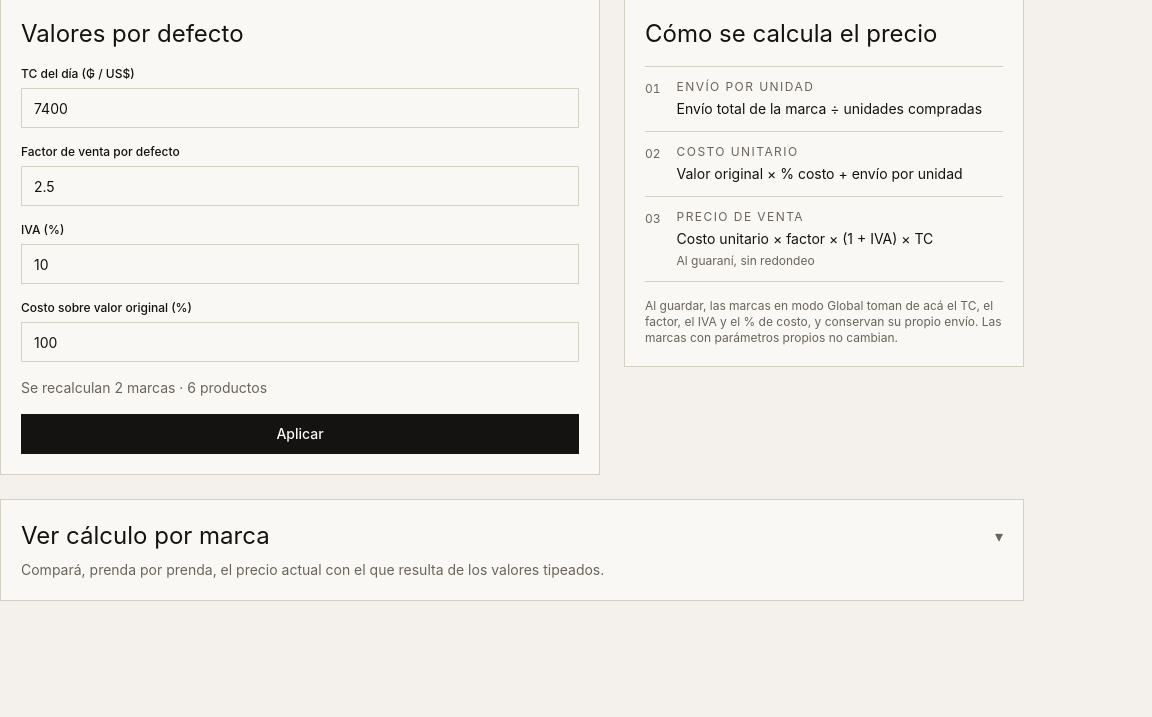
Test: SettingsForm › Ver cálculo por marca › switches the lot with the select
Click the button "Ver cálculo por marca ▾".
click(145, 536)  # box [21, 520, 1003, 552]
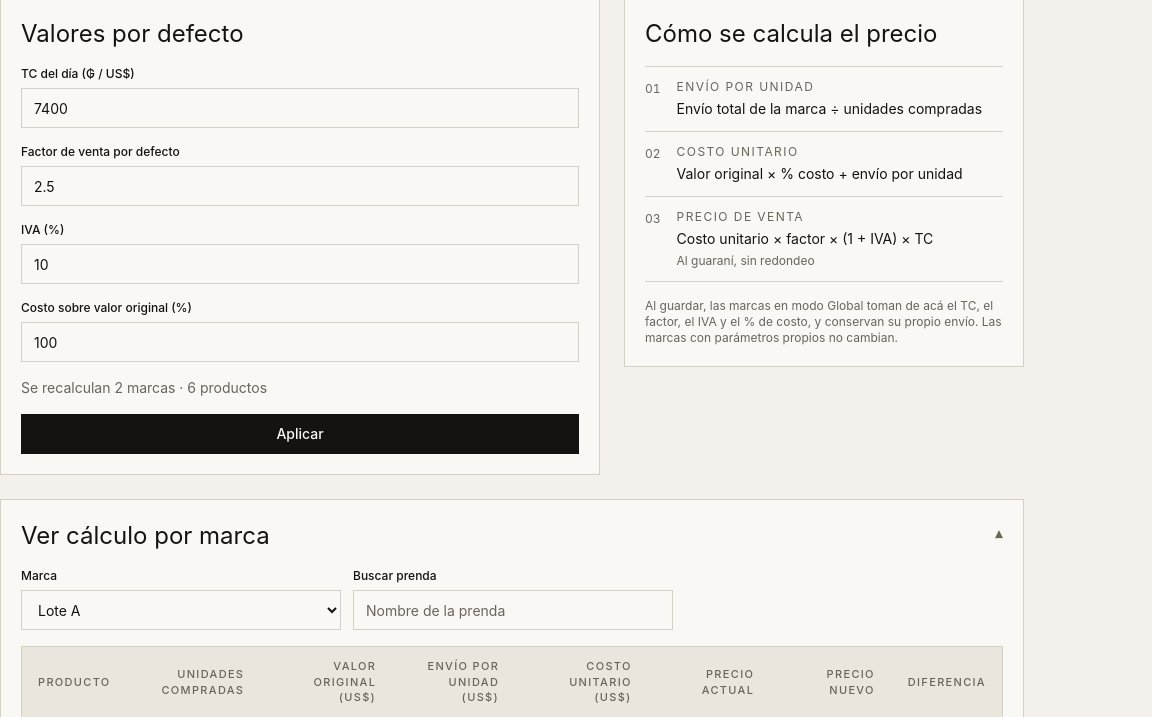
Select "Lote B" in the dropdown labelled "Marca" at (181, 610), box [21, 590, 341, 630]
(page scrolled)
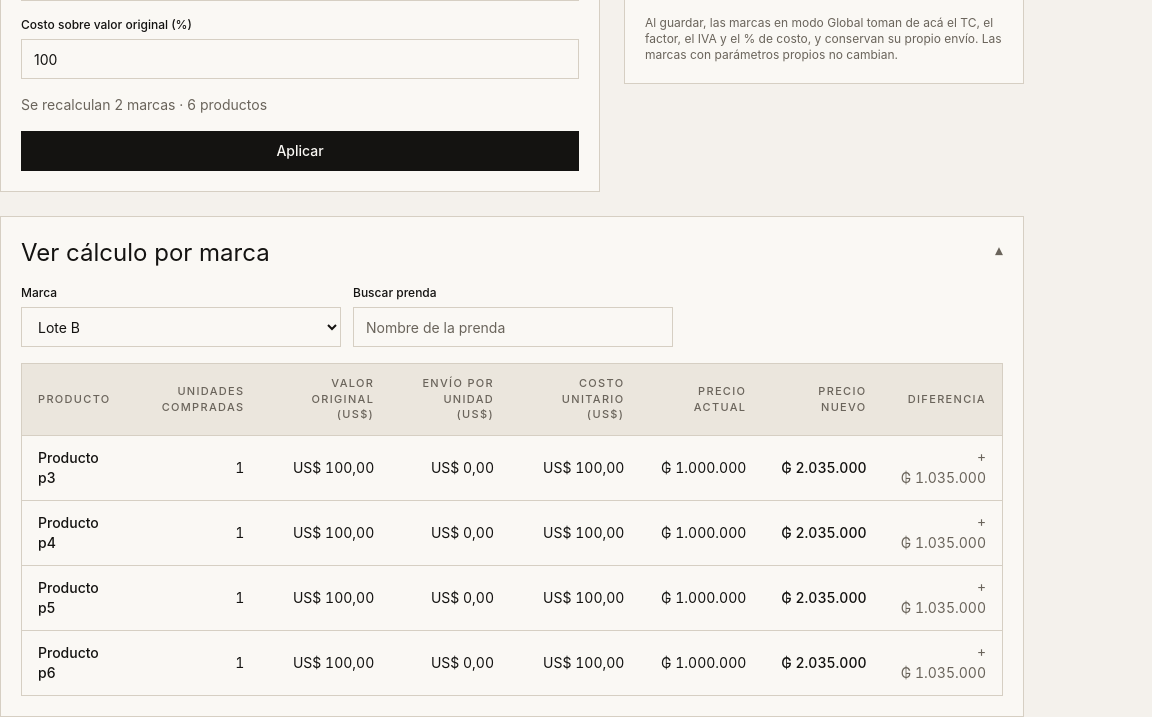
Result: the text "Producto p3" is shown at [22, 436, 129, 501]
